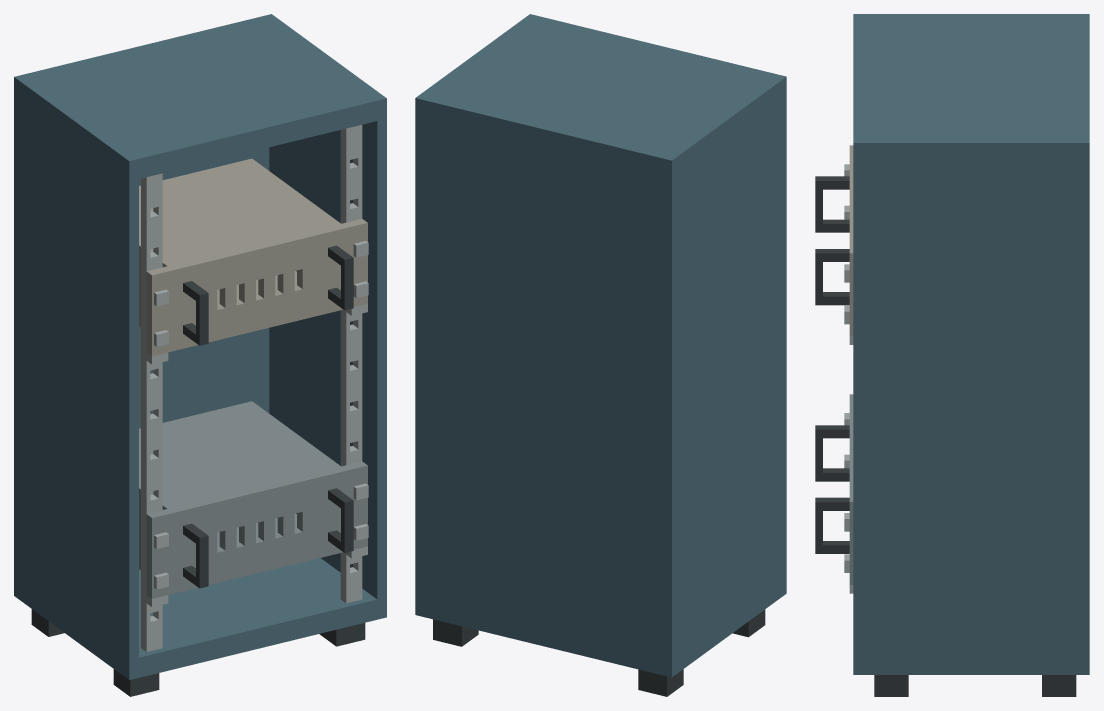
The picture shows the model from 3 angles, left to right: view 1: azimuth 30°, elevation 25°; view 2: azimuth 150°, elevation 25°; view 3: azimuth 270°, elevation 25°; orthographic projection. The views are drawn at different scales.
Parts seen in each view (by area): view 1: ContinuousOpenFrontCabinetShell, HollowEarMountedChassis_1, HollowEarMountedChassis_2, TruePiercedRail_Left, TruePiercedRail_Right, Chassis_1_Left_ShortThickHandle, Chassis_1_Right_ShortThickHandle, Chassis_2_Right_ShortThickHandle, Chassis_2_Left_ShortThickHandle, FullGroundFoot_1_1, FullGroundFoot_2_1; view 2: ContinuousOpenFrontCabinetShell, FullGroundFoot_1_2, FullGroundFoot_2_2; view 3: ContinuousOpenFrontCabinetShell, Chassis_1_Left_ShortThickHandle, Chassis_2_Left_ShortThickHandle, Chassis_1_Right_ShortThickHandle, Chassis_2_Right_ShortThickHandle, HollowEarMountedChassis_2, HollowEarMountedChassis_1, FullGroundFoot_2_1, FullGroundFoot_2_2.
Boxes of the visible parts, bbox=[...] form: ContinuousOpenFrontCabinetShell: bbox=[14, 14, 386, 679]; HollowEarMountedChassis_1: bbox=[139, 401, 367, 598]; HollowEarMountedChassis_2: bbox=[139, 158, 367, 356]; TruePiercedRail_Left: bbox=[141, 173, 168, 651]; TruePiercedRail_Right: bbox=[340, 124, 367, 603]; Chassis_1_Left_ShortThickHandle: bbox=[183, 523, 208, 588]; Chassis_1_Right_ShortThickHandle: bbox=[328, 488, 353, 552]; Chassis_2_Right_ShortThickHandle: bbox=[328, 245, 353, 310]; Chassis_2_Left_ShortThickHandle: bbox=[183, 281, 208, 345]; FullGroundFoot_1_1: bbox=[113, 669, 159, 696]; FullGroundFoot_2_1: bbox=[319, 623, 365, 646]; ContinuousOpenFrontCabinetShell: bbox=[415, 14, 786, 677]; FullGroundFoot_1_2: bbox=[638, 669, 683, 696]; FullGroundFoot_2_2: bbox=[433, 619, 478, 646]; ContinuousOpenFrontCabinetShell: bbox=[853, 14, 1089, 674]; Chassis_1_Left_ShortThickHandle: bbox=[815, 425, 849, 481]; Chassis_2_Left_ShortThickHandle: bbox=[815, 176, 849, 232]; Chassis_1_Right_ShortThickHandle: bbox=[815, 497, 849, 553]; Chassis_2_Right_ShortThickHandle: bbox=[815, 249, 849, 305]; HollowEarMountedChassis_2: bbox=[849, 145, 853, 336]; HollowEarMountedChassis_1: bbox=[849, 394, 853, 584]; FullGroundFoot_2_1: bbox=[874, 675, 908, 696]; FullGroundFoot_2_2: bbox=[1042, 675, 1076, 696].
Size of the model in its own units: 0.8 by 1.62 by 0.72.
